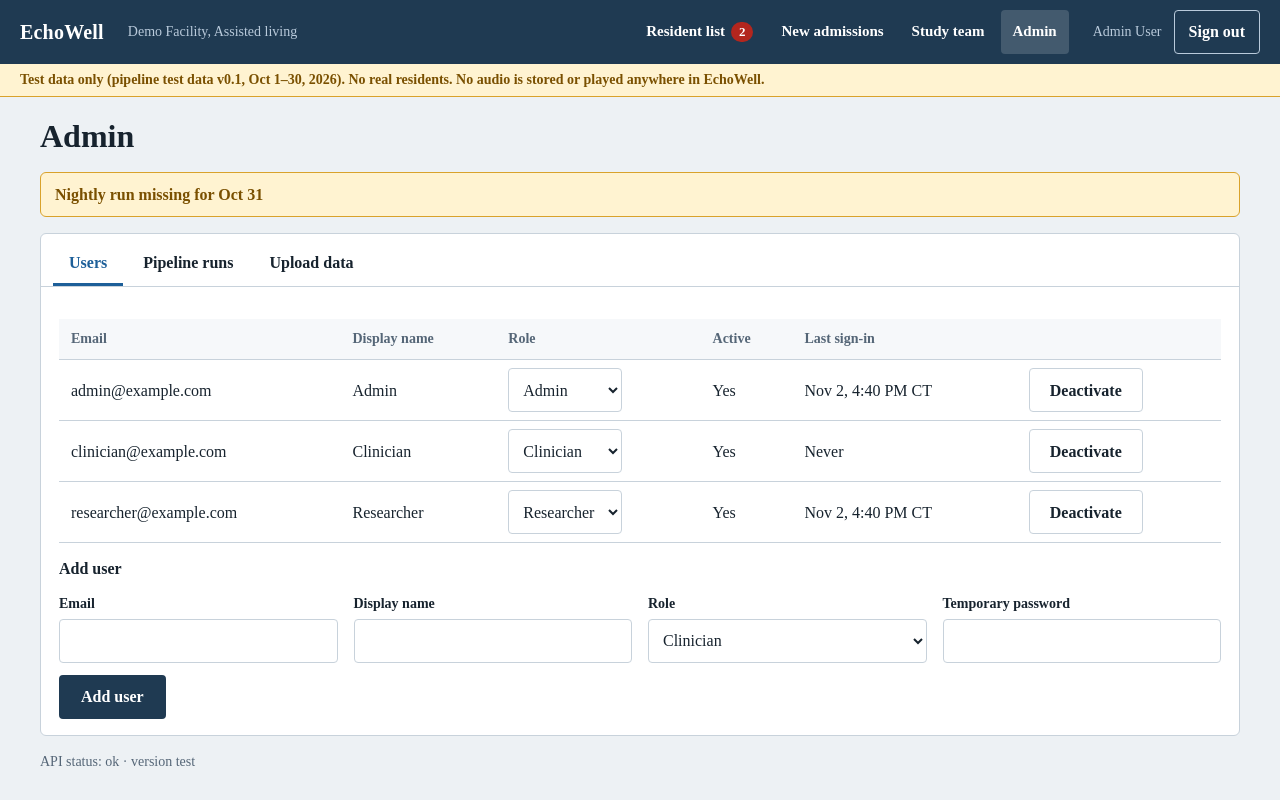
Test case: /admin › Users › adds a user and clears the form (UX-211, UX-228)
This screenshot has width=1280, height=800.
Check: the heading "Add user" is shown, box [59, 560, 122, 577]
Type "new@example.com" into the field labelled "Email" at (198, 641), box [59, 619, 338, 663]
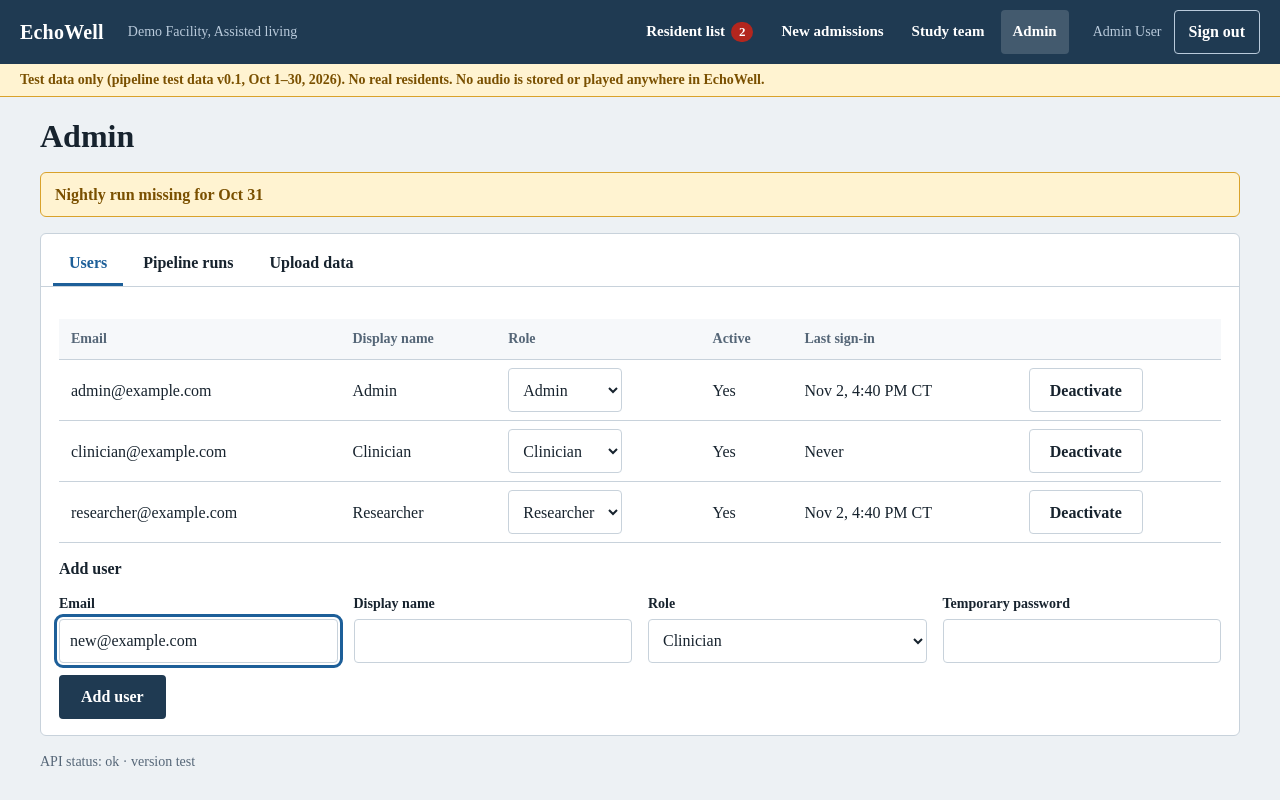
Type "New User" into the field labelled "Display name" at (493, 641), box [354, 619, 632, 663]
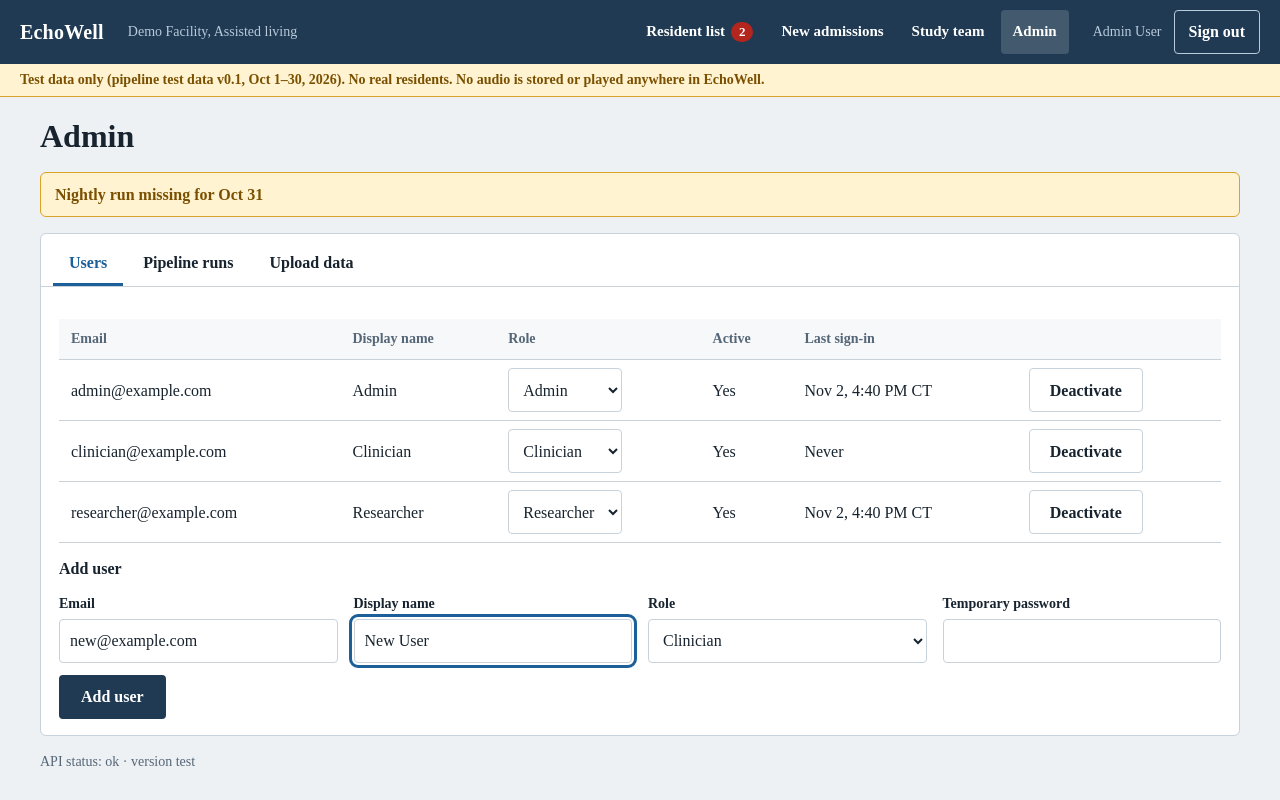
Select "Researcher" in the dropdown labelled "Role" at (787, 641), box [648, 619, 926, 663]
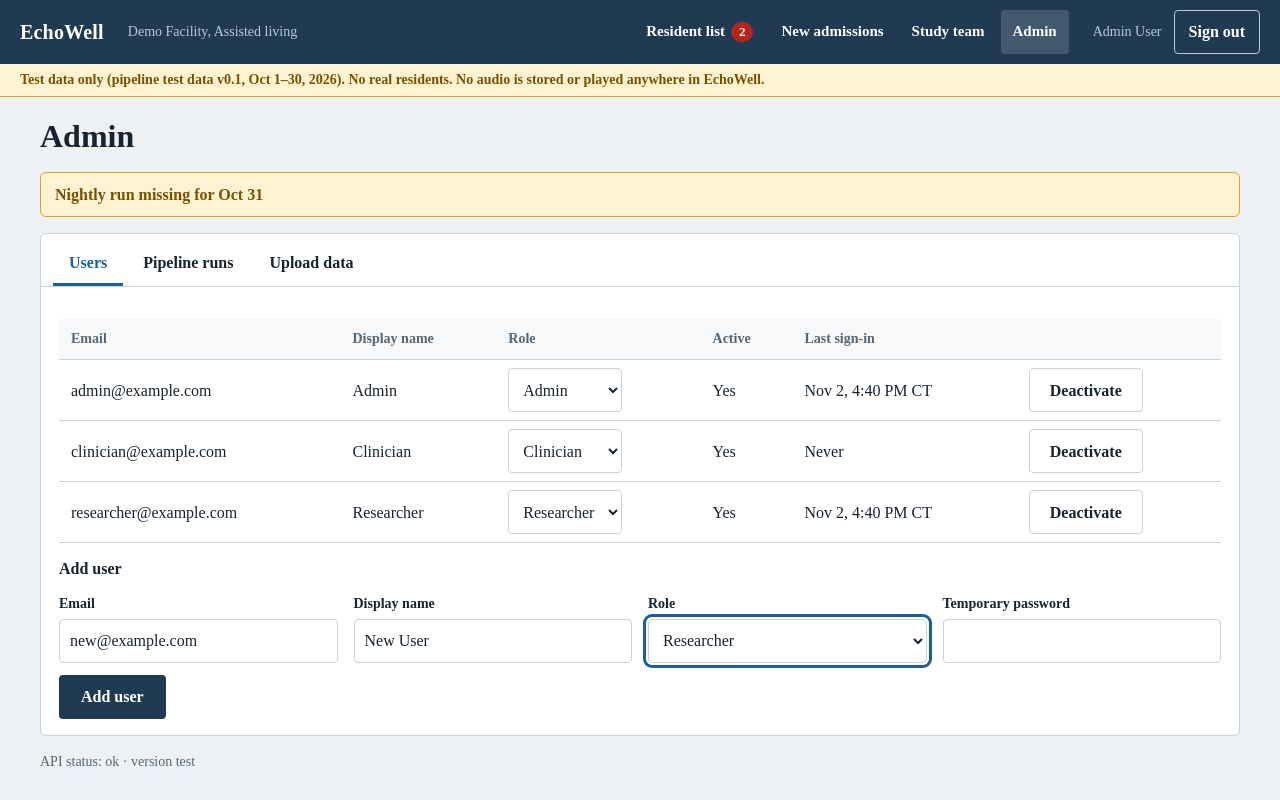
Type "a-long-temp-password" into the password field labelled "Temporary password" at (1082, 641), box [942, 619, 1221, 663]
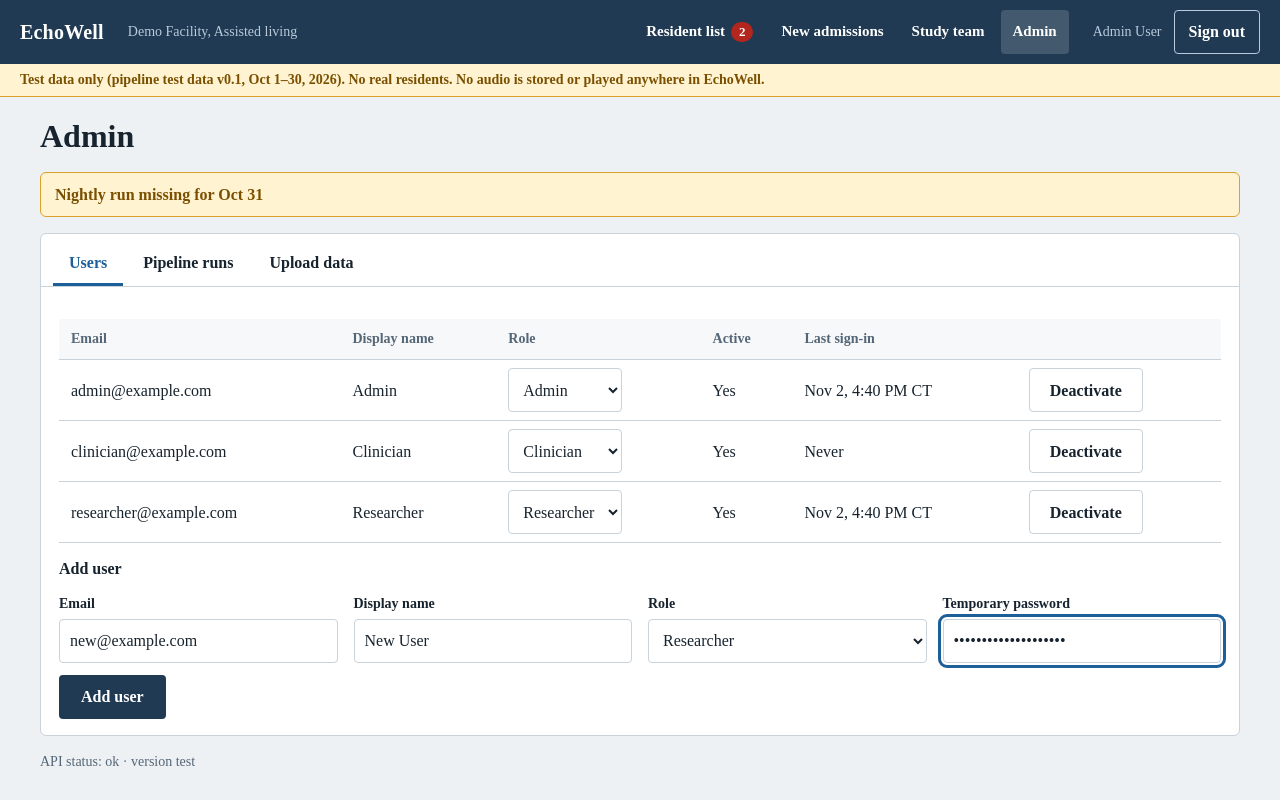
Click the button "Add user" at (112, 697), box [59, 675, 166, 719]
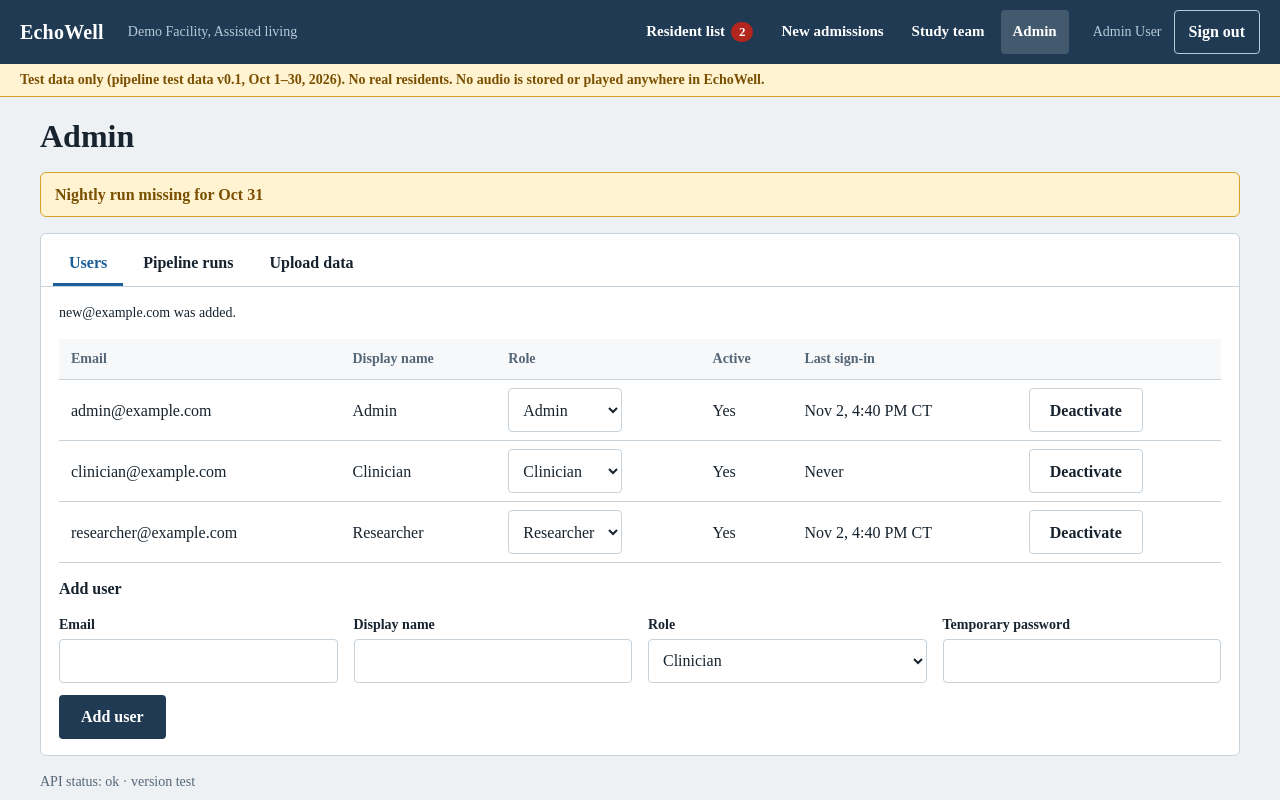
Check: the text "new@example.com was added." is shown, box [59, 305, 236, 320]
Check: the password field labelled "Temporary password" is empty, box [942, 639, 1221, 683]
